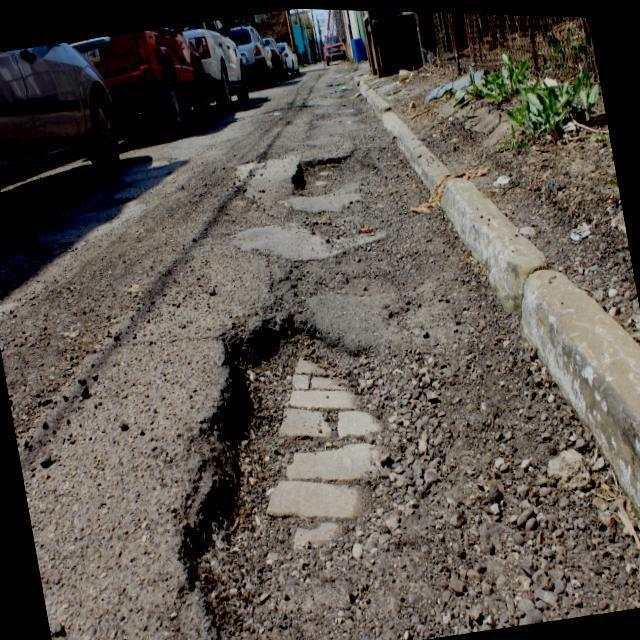Pothole: (196, 313, 414, 640), (291, 150, 362, 200)
